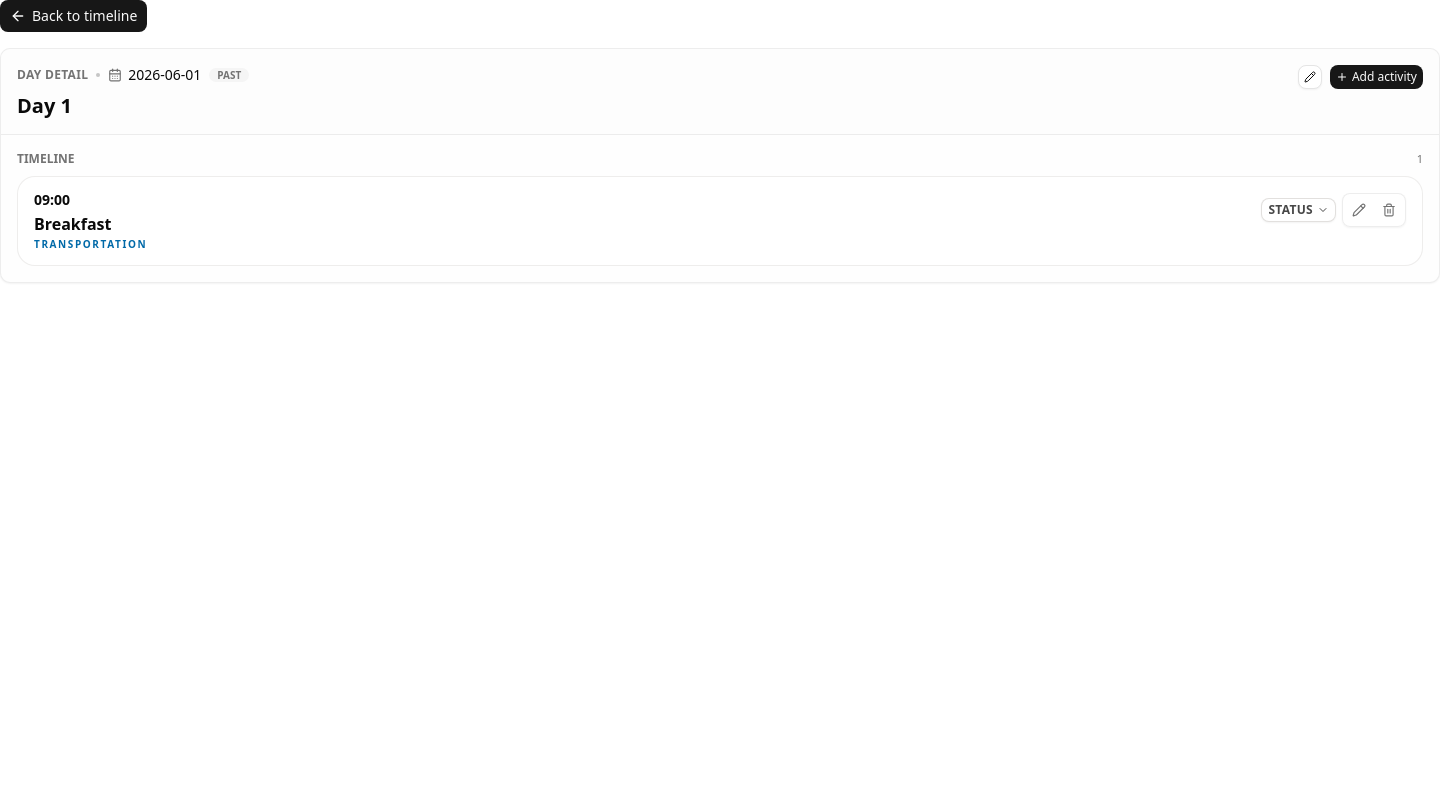
Test: TimelineTab › opens the activity delete dialog from day detail
This screenshot has width=1440, height=810.
Click the button named "Delete Breakfast": (1389, 210) [1375,196,1403,224]
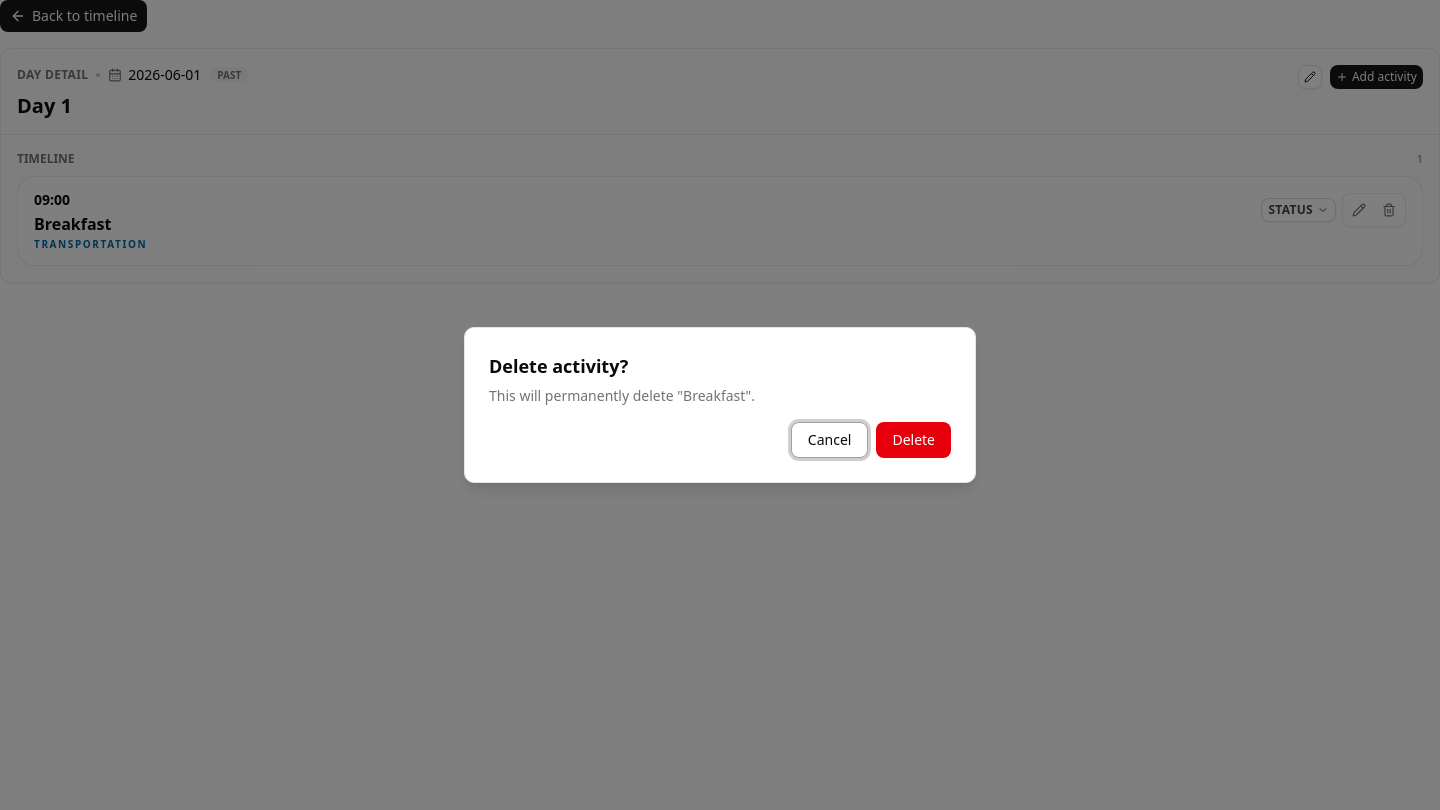
Check: the heading "Delete activity?" is shown, box [489,352,628,380]
Check: the text "This will permanently delete \"Breakfast\"." is shown, box [489,386,755,406]
